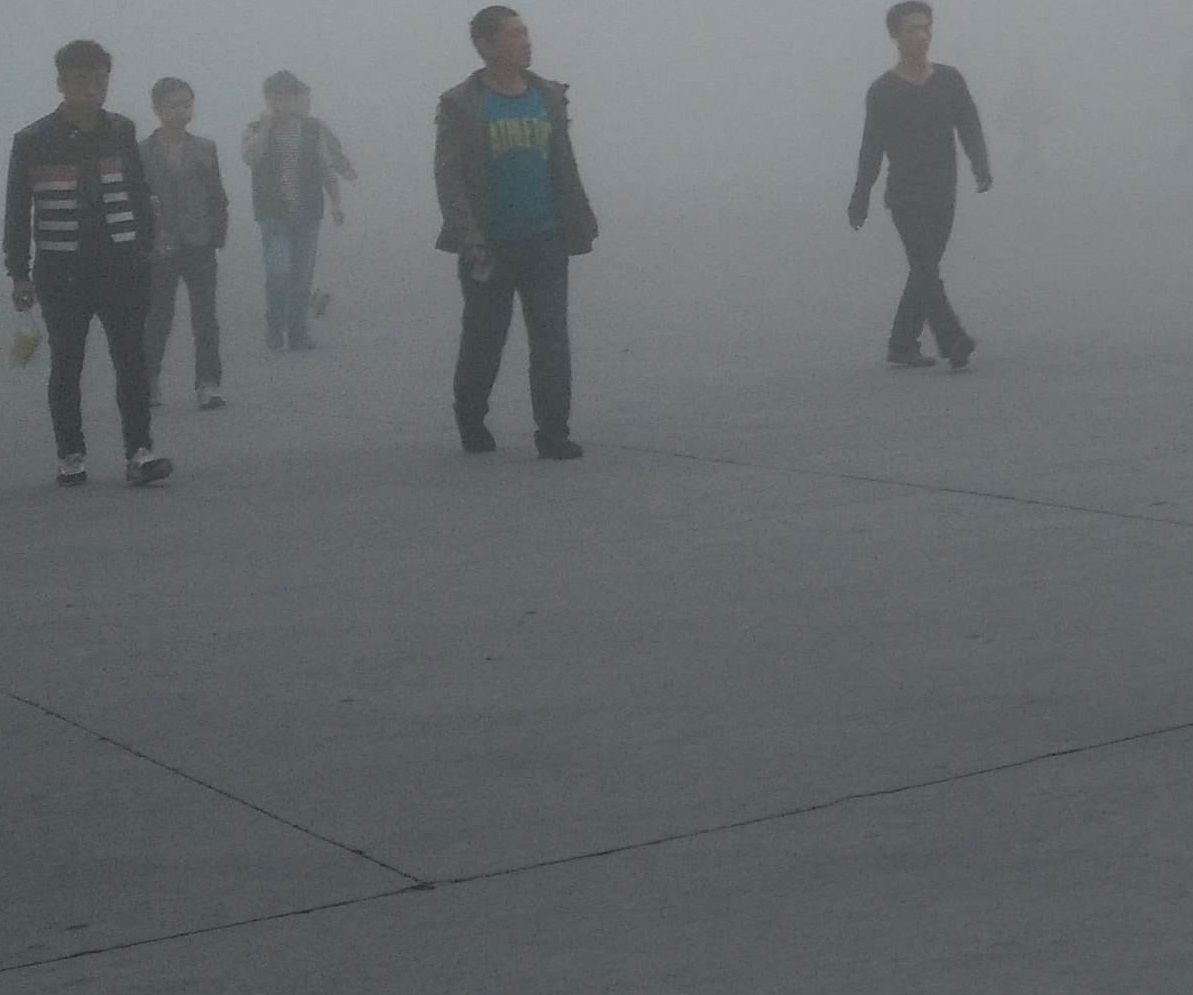person: (407, 4, 607, 466), (7, 33, 179, 500), (839, 3, 1003, 378), (238, 65, 360, 354), (136, 78, 238, 410)
